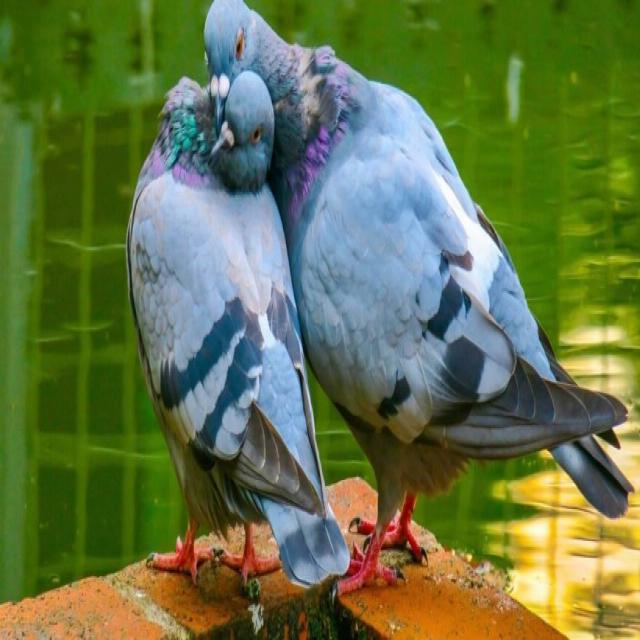pigeon: (205, 0, 634, 593), (127, 72, 350, 585)
